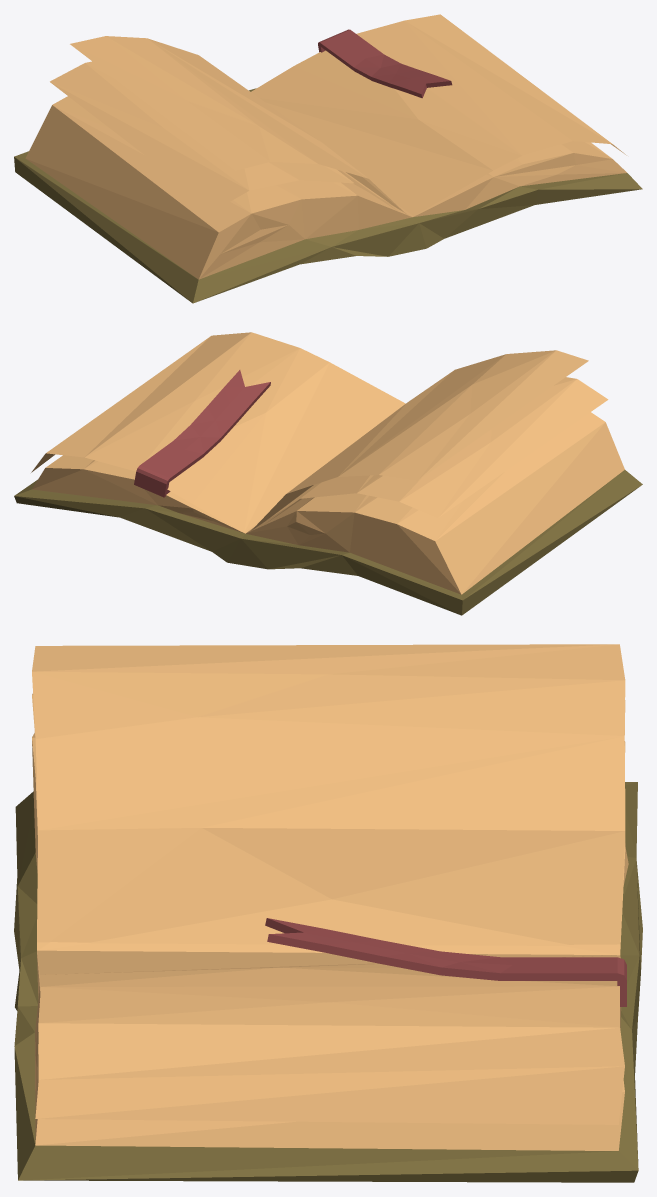
Rendered from SFHW_Book_Opened_001.fbx.
3 renders of one model, top to bottom at view 1: azimuth 30°, elevation 25°; view 2: azimuth 150°, elevation 25°; view 3: azimuth 270°, elevation 25°, orthographic. The views are drawn at different scales.
Parts seen in each view (by area): view 1: SFHW_Book_Opened_001; view 2: SFHW_Book_Opened_001; view 3: SFHW_Book_Opened_001.
Boxes of the visible parts, bbox=[...] form: SFHW_Book_Opened_001: bbox=[14, 14, 642, 303]; SFHW_Book_Opened_001: bbox=[14, 332, 642, 615]; SFHW_Book_Opened_001: bbox=[14, 644, 642, 1182].
Bounding box in the file's own units: 62.5 × 16.39 × 43.59.
